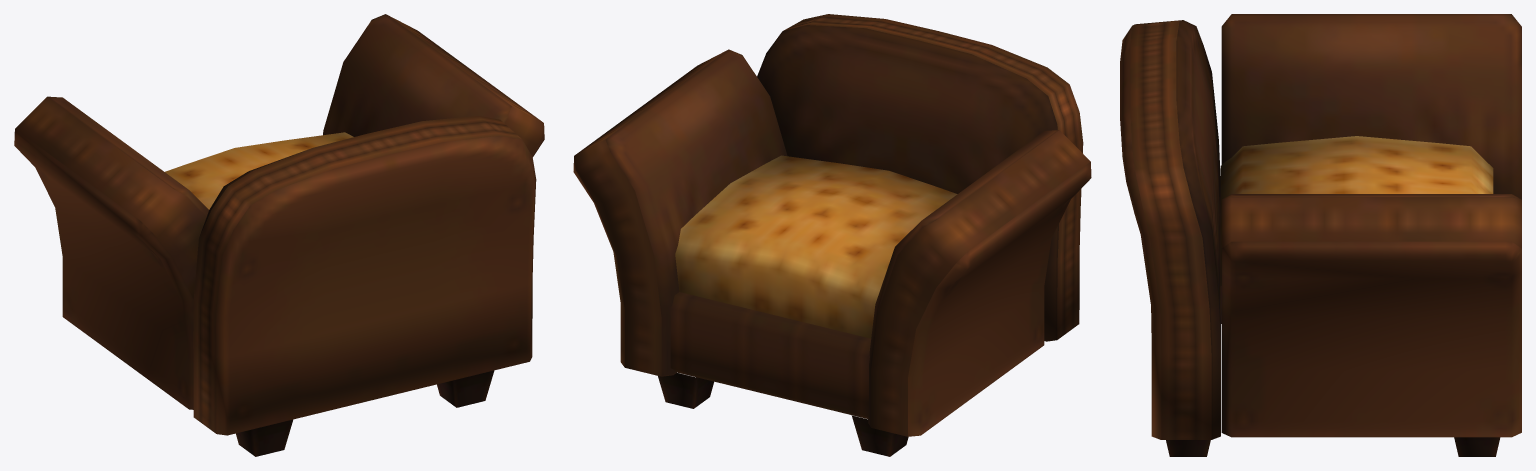
Rendered from Sofa_01a.gltf.
The picture shows the model from 3 angles, left to right: view 1: azimuth 30°, elevation 25°; view 2: azimuth 150°, elevation 25°; view 3: azimuth 270°, elevation 25°; orthographic projection. The views are drawn at different scales.
Visible parts, largest first — view 1: Sofa_01a; view 2: Sofa_01a; view 3: Sofa_01a.
Boxes of the visible parts, x1,y1,x2,y2 form: Sofa_01a: [14, 14, 544, 456]; Sofa_01a: [573, 14, 1091, 456]; Sofa_01a: [1120, 14, 1521, 456].
Size of the model in its own units: 45.05 by 31.22 by 34.97.
1 material, 1 textured.
